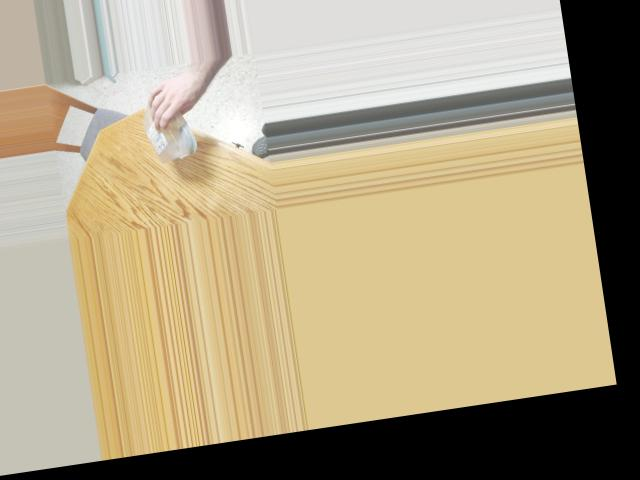cheese: (139, 99, 194, 161)
